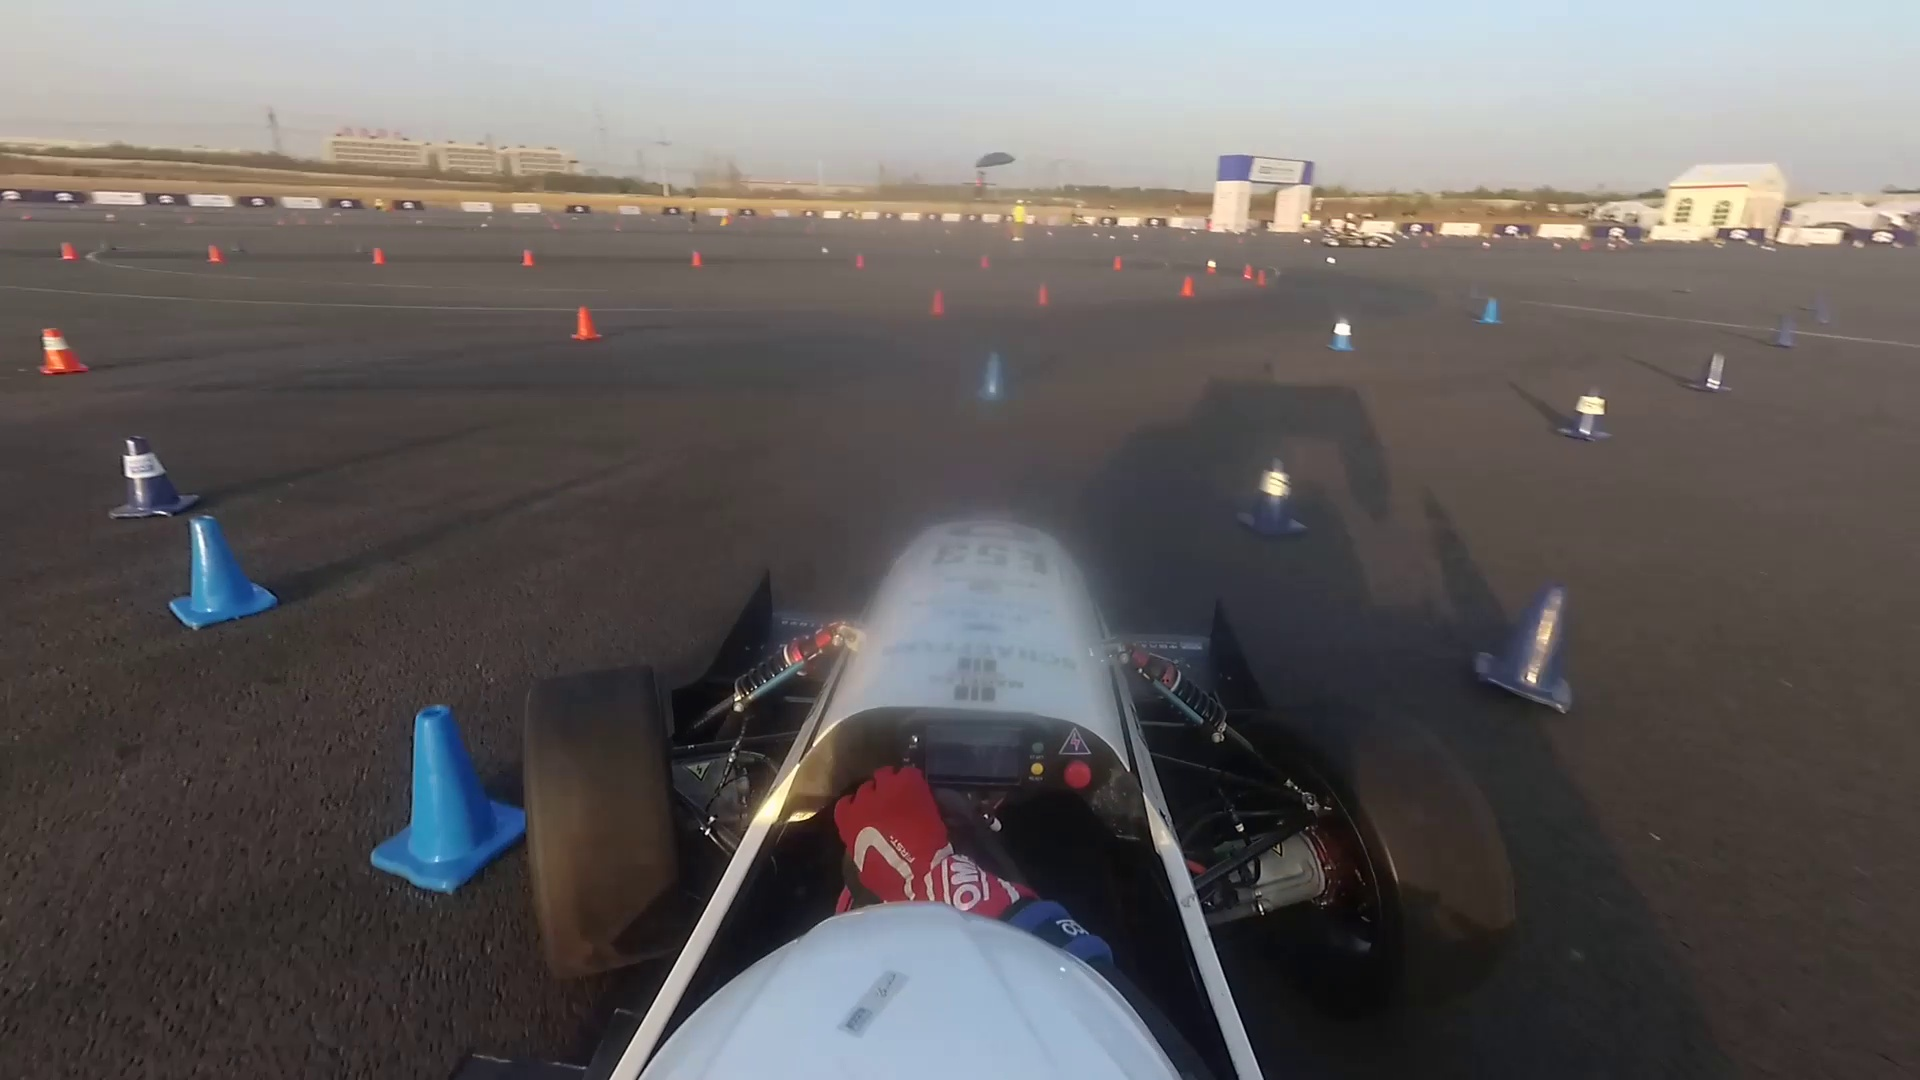blue_cone: (367, 673, 517, 902), (1455, 556, 1586, 704), (1207, 429, 1338, 546), (166, 516, 281, 629), (105, 427, 200, 520), (943, 340, 1030, 419), (1575, 361, 1626, 455), (1691, 340, 1731, 397), (1331, 305, 1367, 359), (1772, 309, 1811, 355), (1477, 289, 1509, 331)
red_cone: (26, 318, 109, 382), (568, 295, 612, 342), (47, 228, 84, 265), (200, 229, 233, 266), (678, 241, 716, 273), (510, 237, 543, 273), (840, 237, 872, 274), (1174, 270, 1207, 305), (926, 281, 951, 318), (1034, 278, 1058, 311), (1232, 251, 1255, 284), (364, 239, 392, 266), (1257, 261, 1276, 293), (1197, 252, 1221, 276), (1106, 251, 1126, 272)
